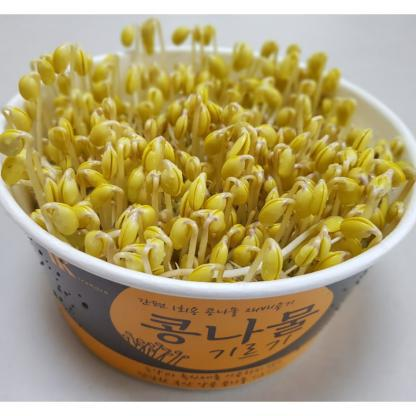bean sprouts: (59, 58, 366, 251)
